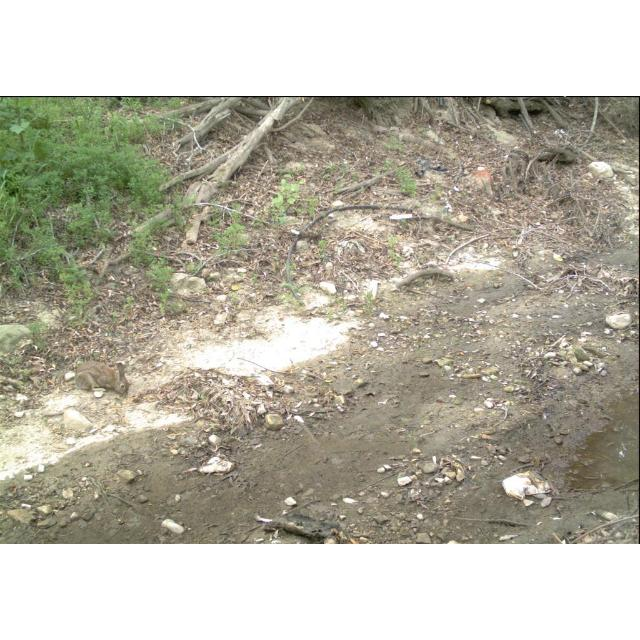animals: (74, 362, 132, 396)
